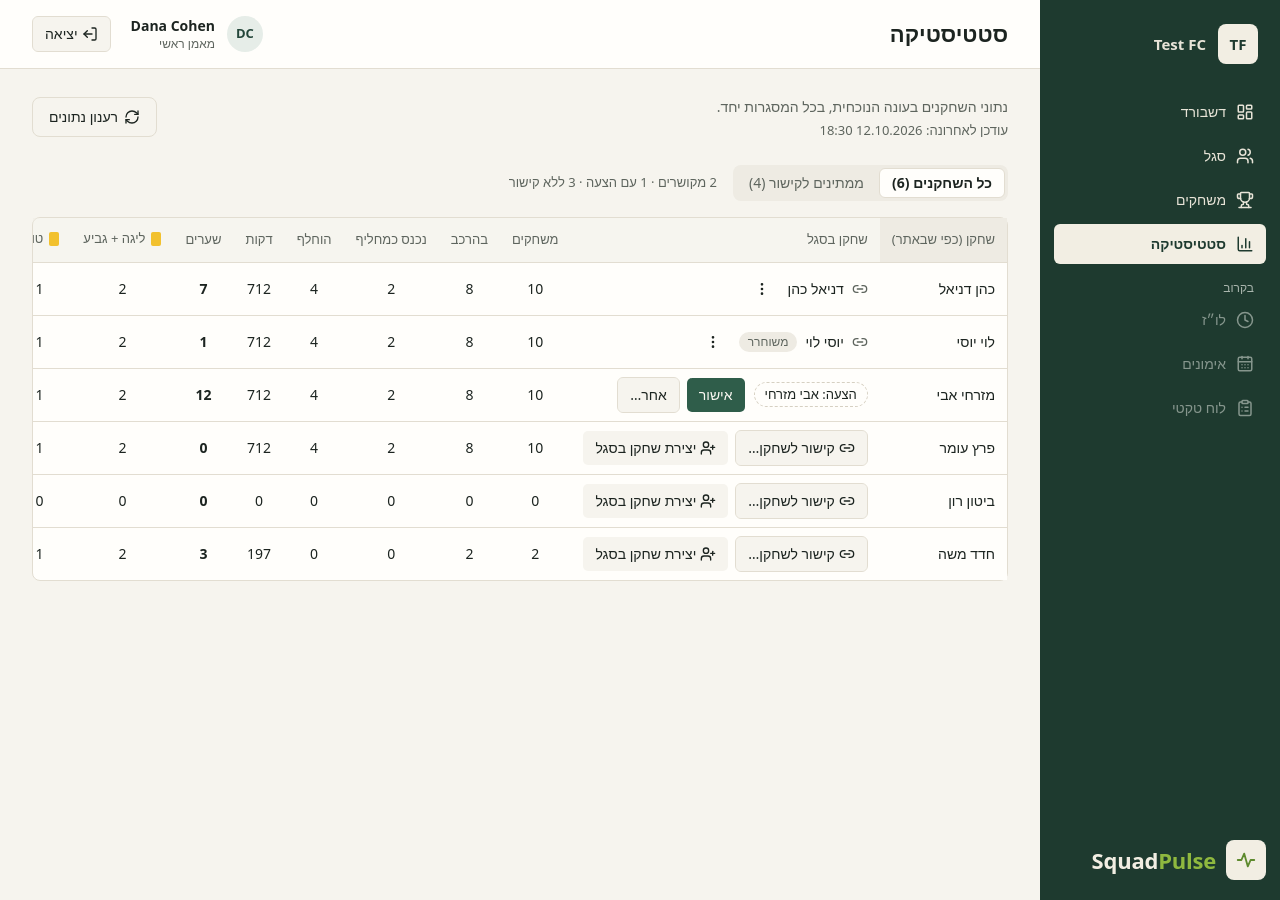
Test: confirming a suggestion › shows a a network error in the row, refetching only when the list is out of date
Expected: the heading "סטטיסטיקה" is shown, [890,20,1008,48]
Click the button "אישור" at (716, 394), box [686,376,746,412]
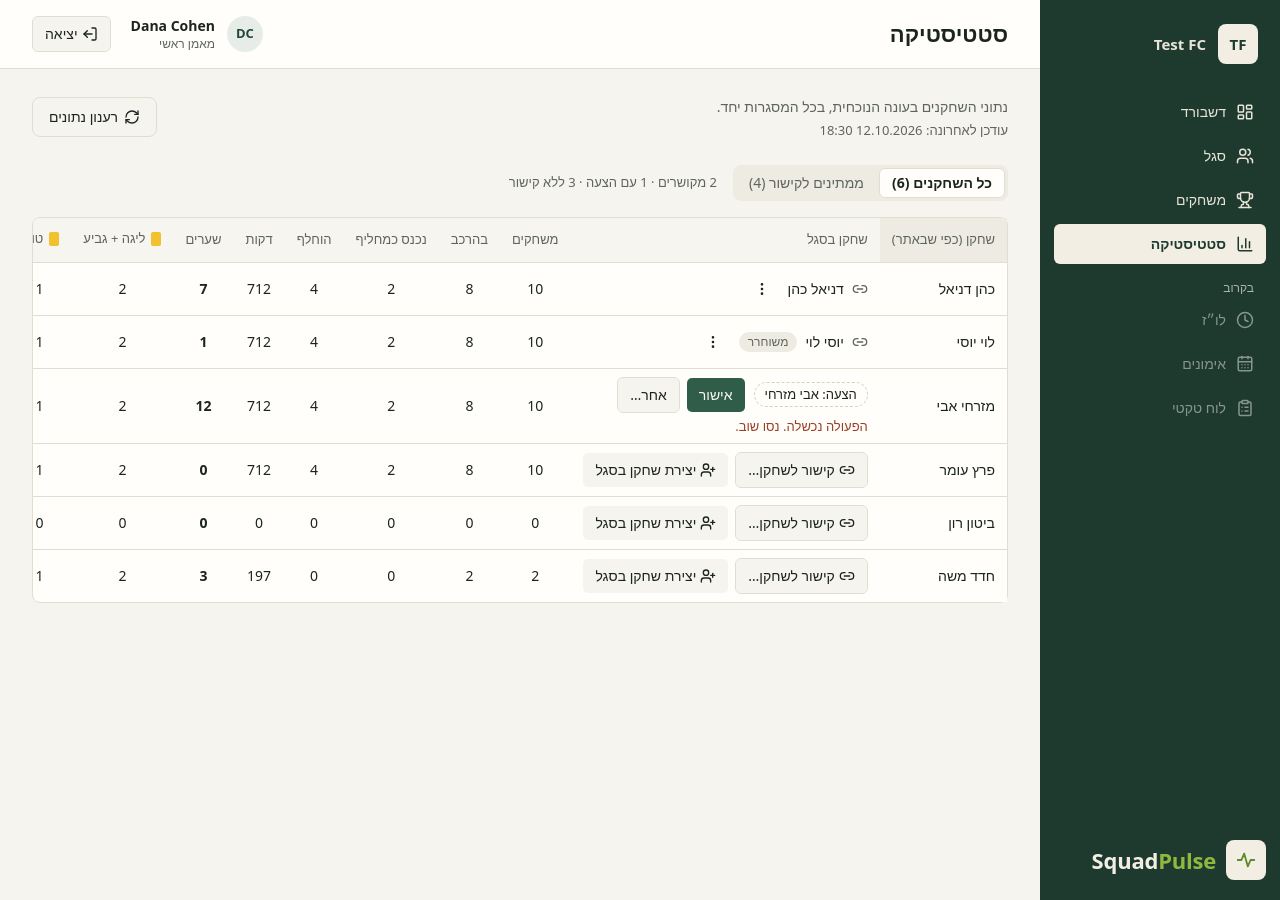
Now the message reads "הפעולה נכשלה. נסו שוב.", box [735,416,868,434]
